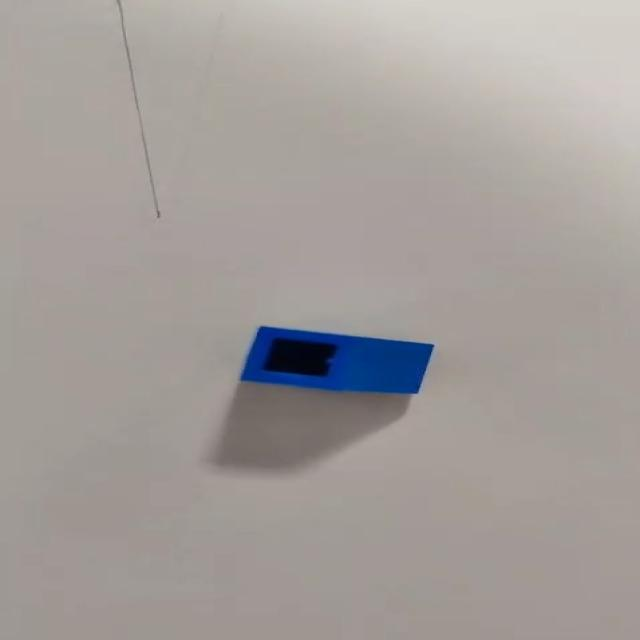X1x2x1: (230, 323, 438, 403)
